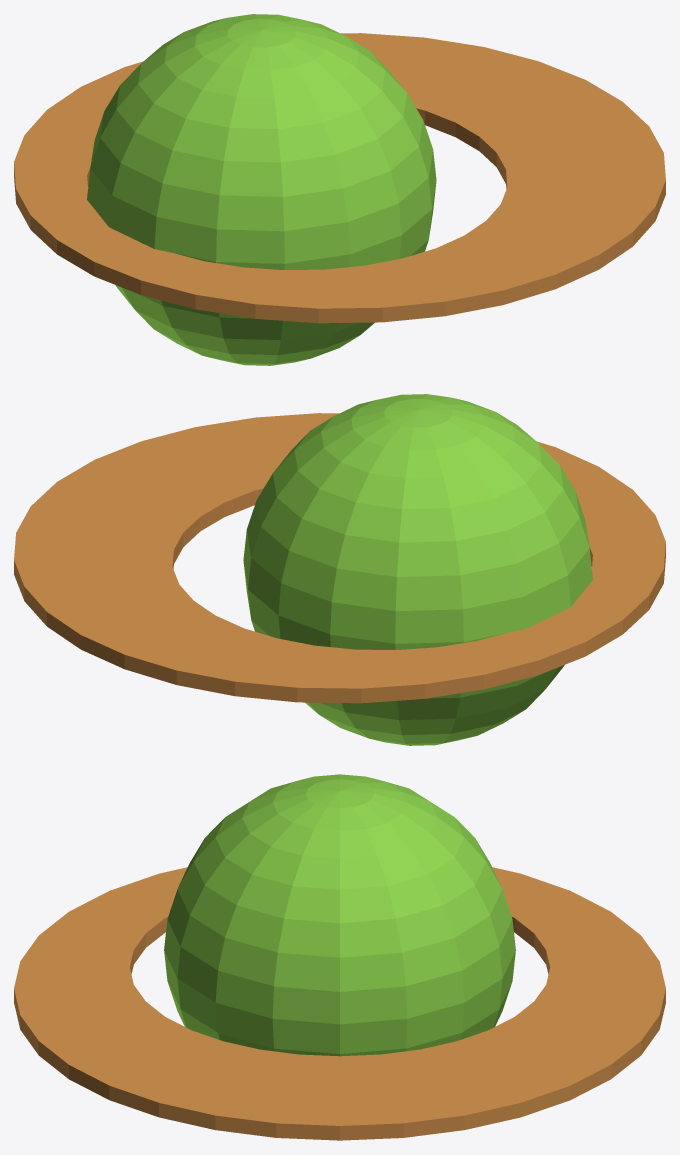
The model's file is Saturn.fbx.
3 views of the same model, one above another, from view 1: azimuth 30°, elevation 25°; view 2: azimuth 150°, elevation 25°; view 3: azimuth 270°, elevation 25° (orthographic).
Parts seen in each view (by area): view 1: Circle; view 2: Circle; view 3: Circle.
Part boxes in pixels (x1,y1,x2,y2): Circle: (14, 14, 665, 365); Circle: (14, 394, 665, 745); Circle: (14, 774, 665, 1140).
Bounding box in the file's own units: 371 × 200 × 371.
